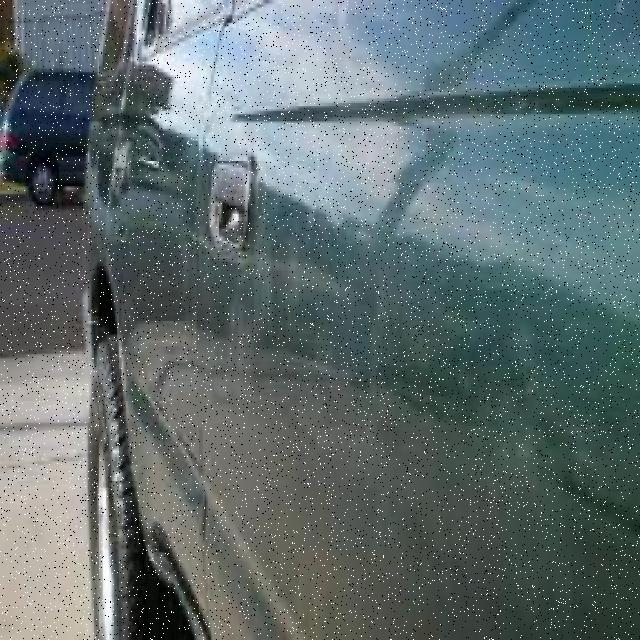damage: (219, 222, 309, 378), (122, 112, 167, 178)
